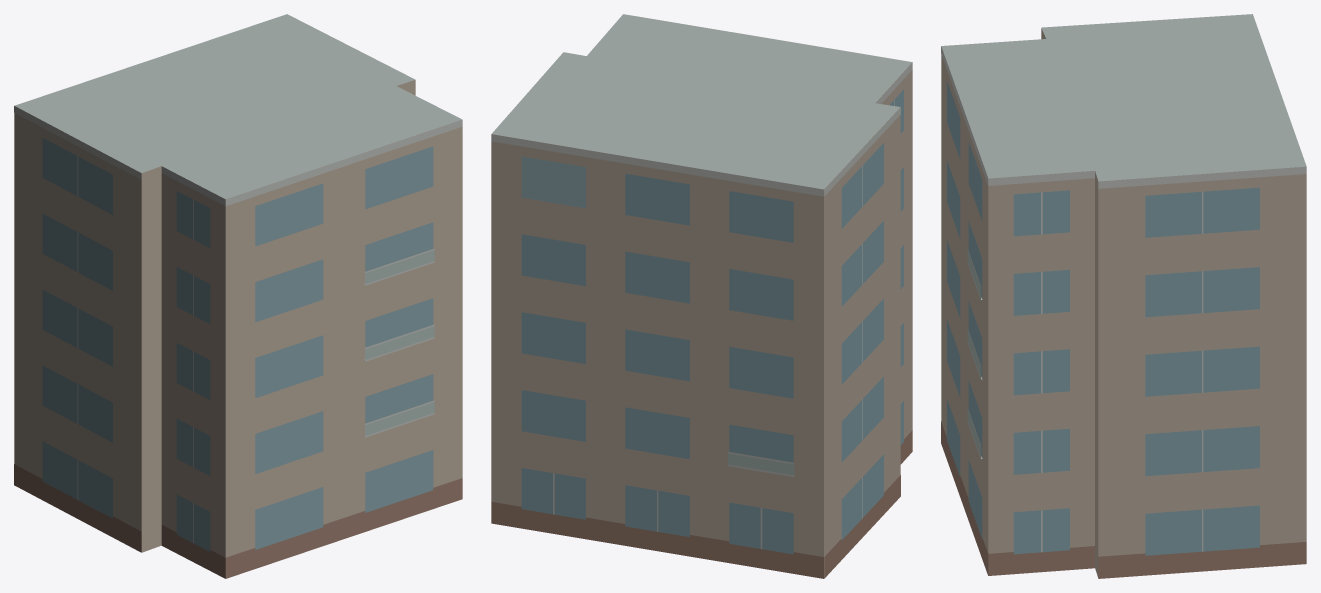
The model's file is survey-upis-32576539.glb.
3 renders of one model, left to right at view 1: azimuth 30°, elevation 25°; view 2: azimuth 150°, elevation 25°; view 3: azimuth 270°, elevation 25°, orthographic. The views are drawn at different scales.
Visible parts, largest first — view 1: survey-upis-32576539.tmp; view 2: survey-upis-32576539.tmp; view 3: survey-upis-32576539.tmp.
Part boxes in pixels (x1,y1,x2,y2): survey-upis-32576539.tmp: (14, 14, 462, 578); survey-upis-32576539.tmp: (491, 14, 912, 578); survey-upis-32576539.tmp: (941, 14, 1306, 578).
Size of the model in its own units: 11.94 by 13.2 by 11.02.
